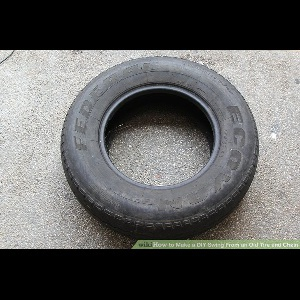tire: (62, 56, 260, 242)
